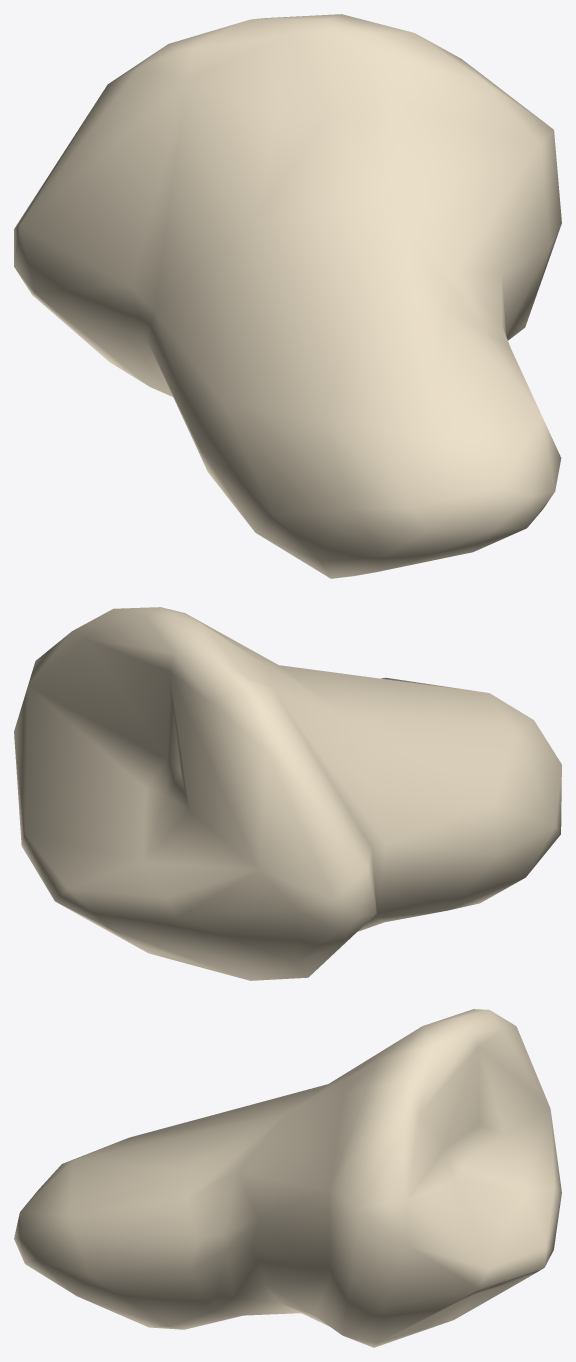
The model's file is distal-phalanx-of-fourth-finger-of-foot-r.glb.
3 views of the same model, one above another, from view 1: azimuth 30°, elevation 25°; view 2: azimuth 150°, elevation 25°; view 3: azimuth 270°, elevation 25° (orthographic). The views are drawn at different scales.
Visible parts, largest first — view 1: Distal phalanx of fourth finger of foot.r; view 2: Distal phalanx of fourth finger of foot.r; view 3: Distal phalanx of fourth finger of foot.r.
Boxes of the visible parts, x1=… form: Distal phalanx of fourth finger of foot.r: x1=14, y1=14, x2=561, y2=578; Distal phalanx of fourth finger of foot.r: x1=14, y1=607, x2=561, y2=980; Distal phalanx of fourth finger of foot.r: x1=14, y1=1009, x2=561, y2=1347.
Size of the model in its own units: 0.00879 by 0.00733 by 0.0117.
